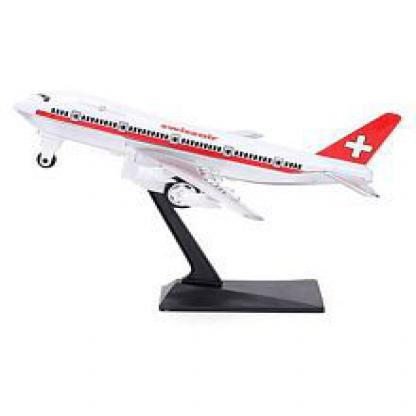CIV_Plane: (9, 89, 398, 217)
